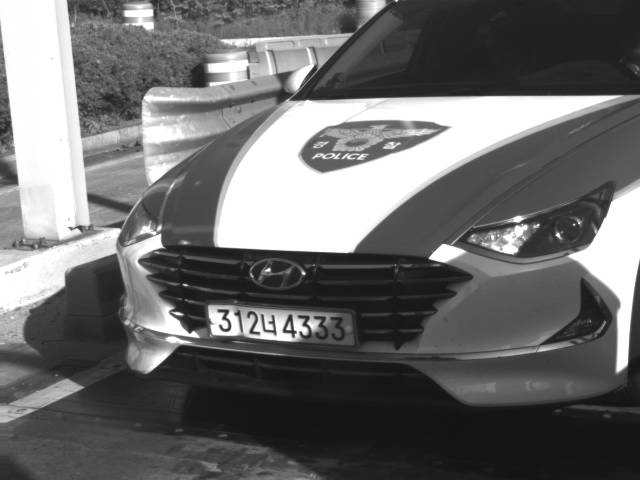car: (114, 1, 640, 416)
plate: (204, 300, 359, 349)
